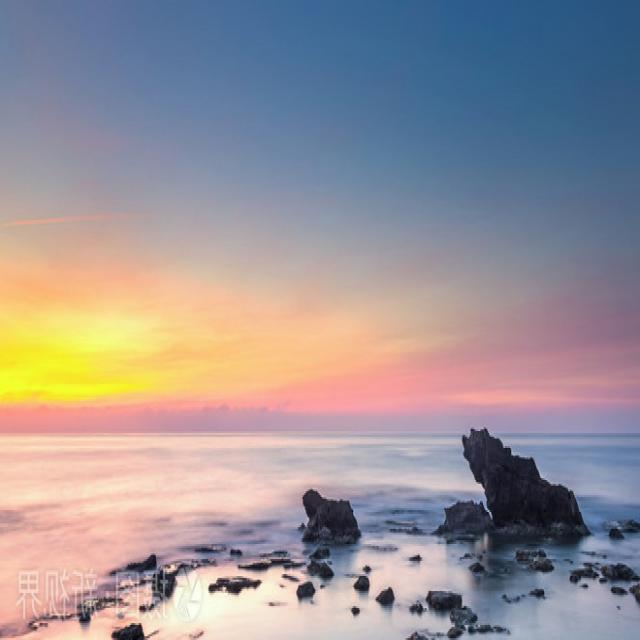reef: (443, 436, 585, 538), (388, 559, 468, 640), (280, 486, 368, 558)
